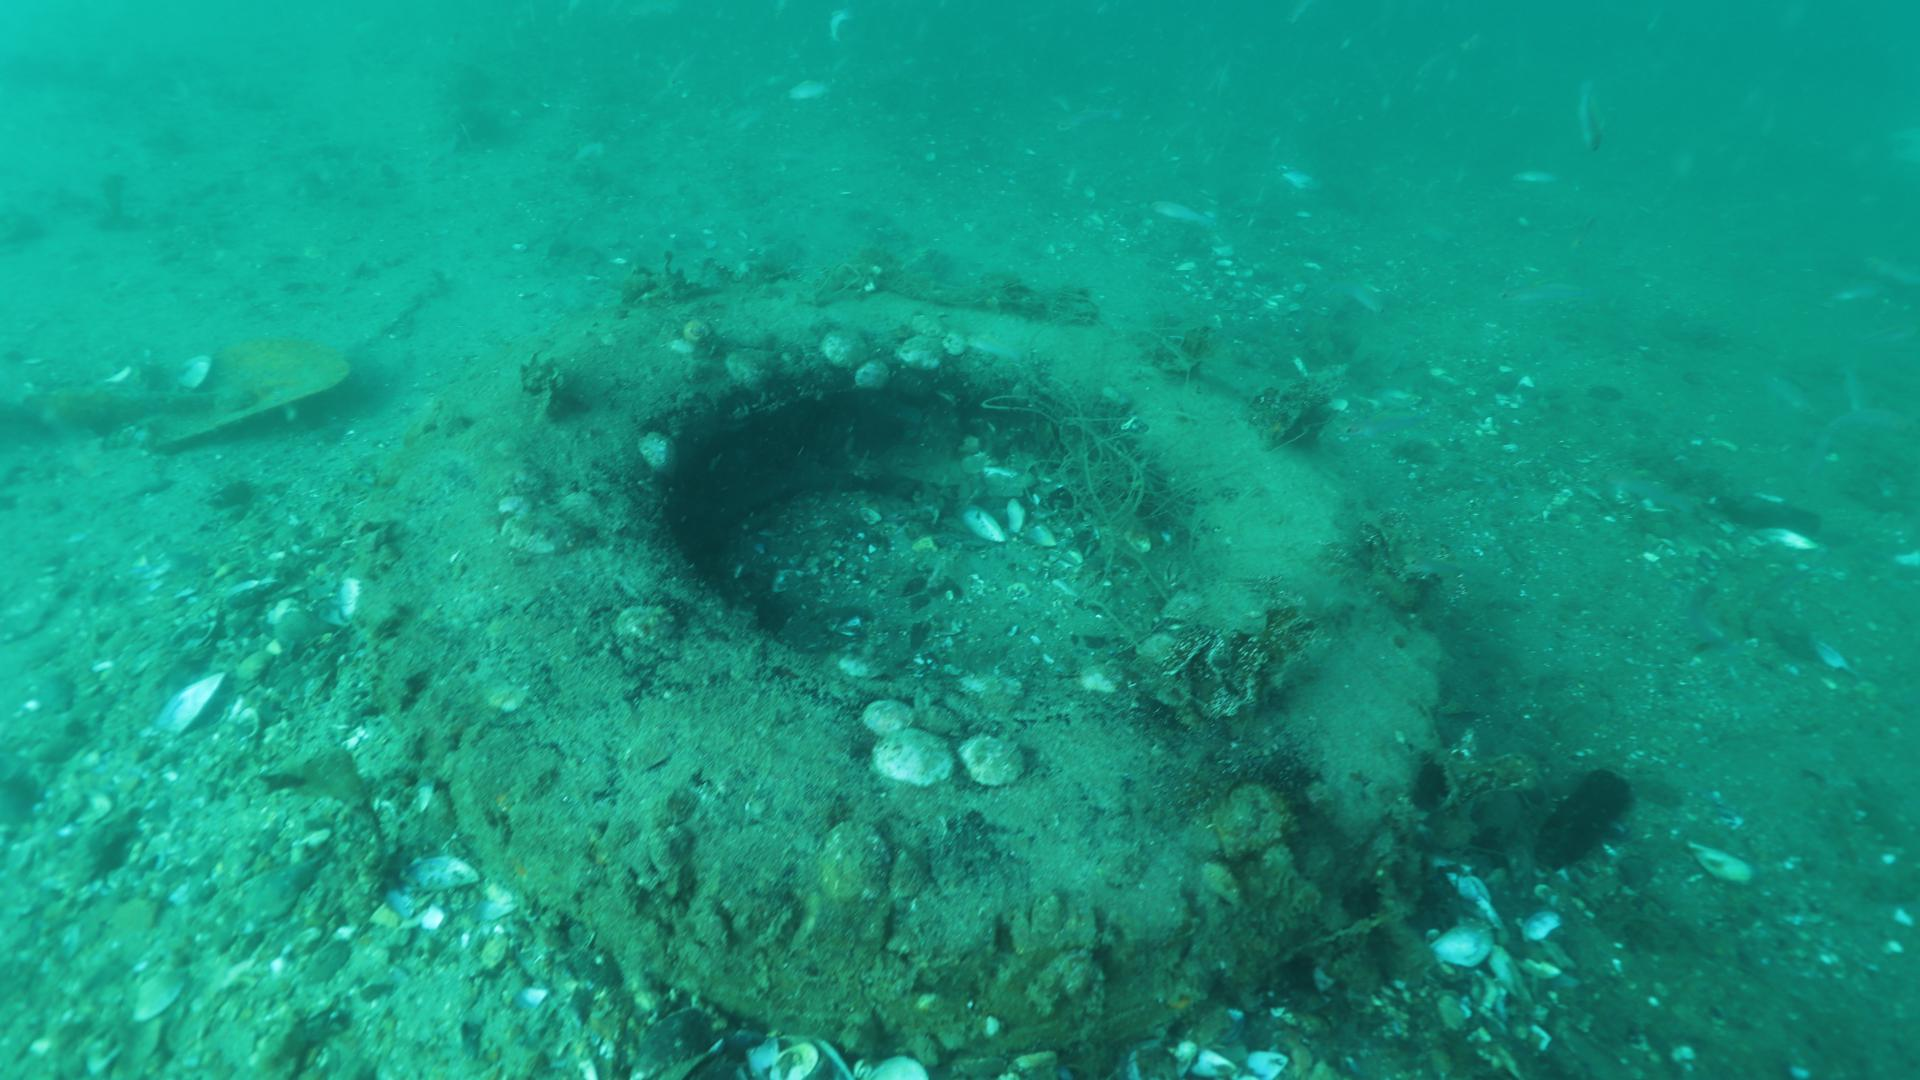tire: (419, 290, 1445, 1044)
